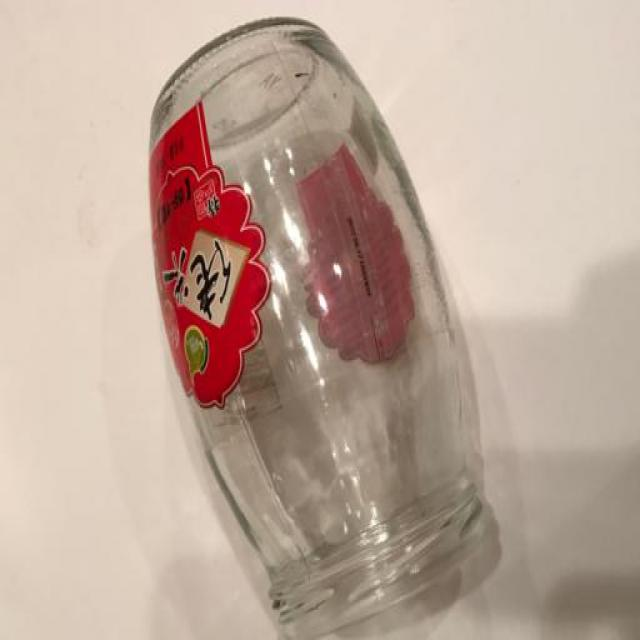glass: (118, 13, 560, 640)
